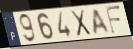4: (57, 10, 73, 39)
6: (36, 12, 55, 42)
9: (18, 13, 37, 44)
A: (93, 8, 111, 37)
F: (104, 5, 123, 36)
X: (69, 8, 93, 39)
